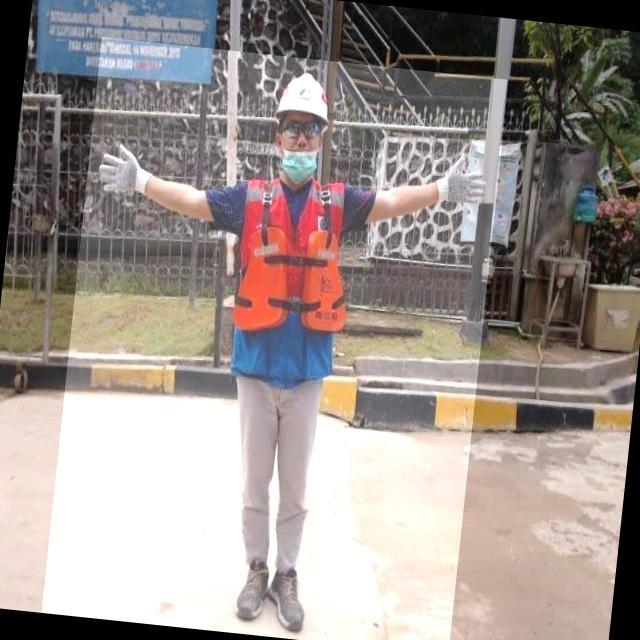Helmet: (277, 71, 336, 128)
Human: (41, 36, 509, 640)
Safety Boot: (267, 568, 314, 636), (236, 559, 274, 626)
Safety Vest: (227, 173, 360, 385)
